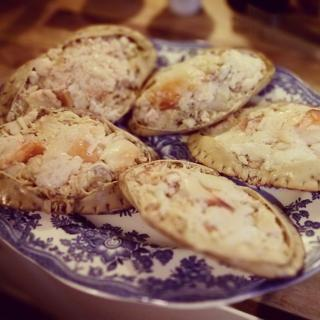Cookie: (118, 150, 303, 280), (0, 106, 160, 216), (0, 23, 157, 126), (126, 43, 276, 138), (184, 99, 319, 193)
